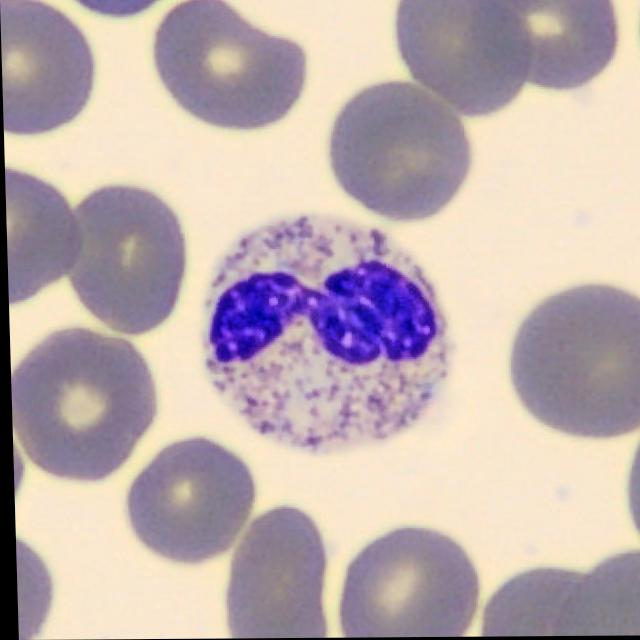Neutrofilo segmentado: (198, 213, 447, 456)
